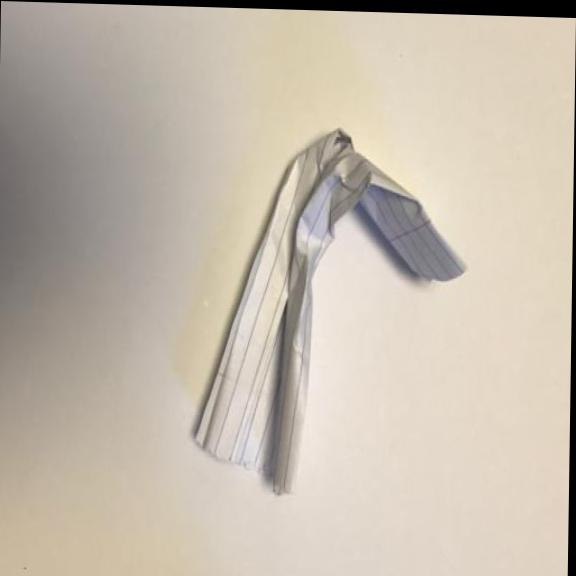Kertas: (182, 242, 343, 514), (237, 115, 469, 290)
